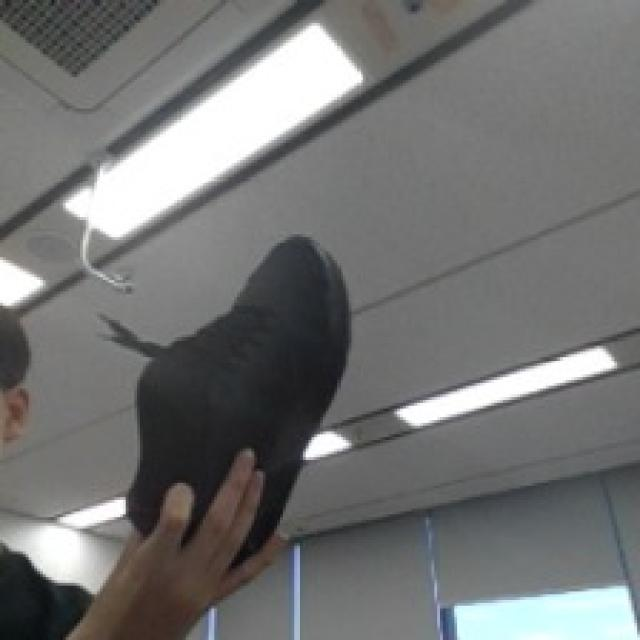shoe: (39, 183, 358, 587)
